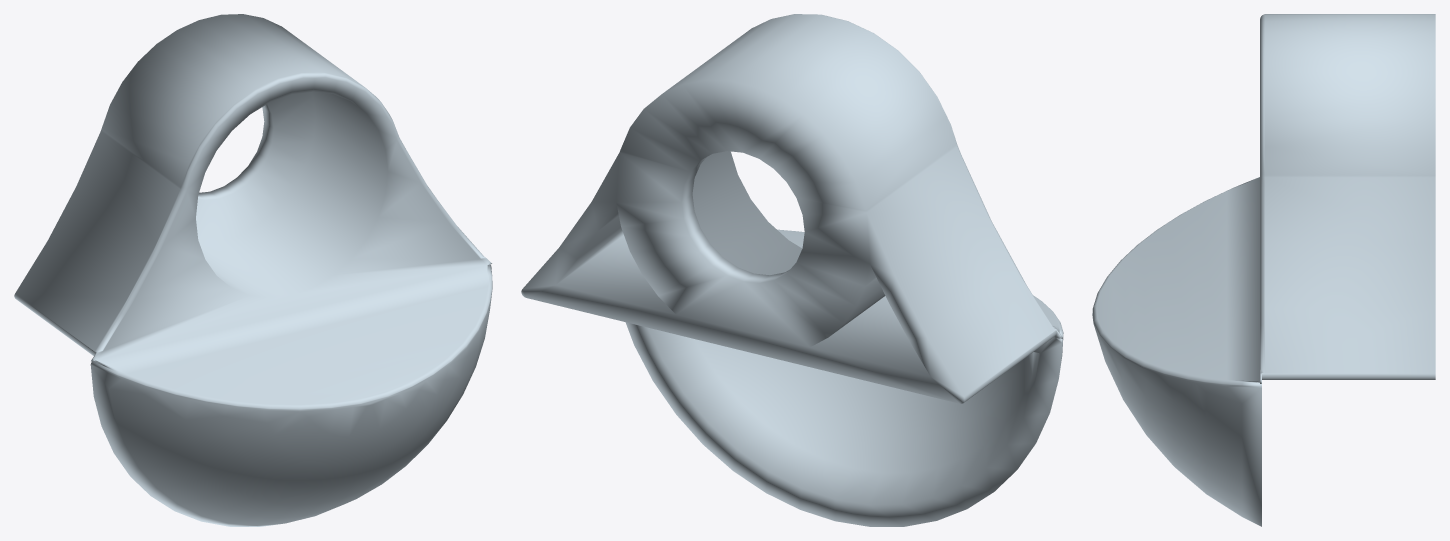
The model's file is Window.obj.
3 renders of one model, left to right at view 1: azimuth 30°, elevation 25°; view 2: azimuth 150°, elevation 25°; view 3: azimuth 270°, elevation 25°, orthographic. The views are drawn at different scales.
Parts seen in each view (by area): view 1: Window; view 2: Window; view 3: Window.
Boxes of the visible parts, x1=… form: Window: x1=14, y1=14, x2=492, y2=526; Window: x1=521, y1=14, x2=1063, y2=526; Window: x1=1092, y1=14, x2=1435, y2=526.
Bounding box in the file's own units: 0.048 × 0.0509 × 0.0332.
Materials: 1 (1 with a texture image).
